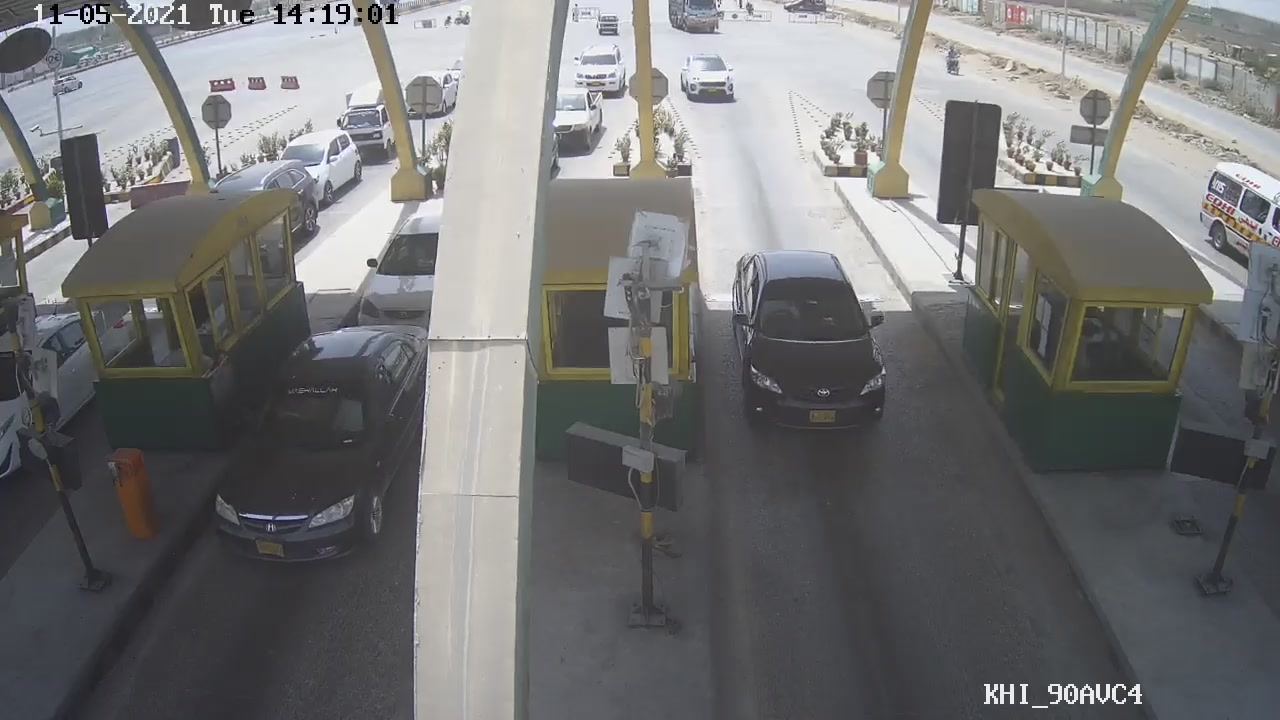F1: (726, 245, 896, 441)
